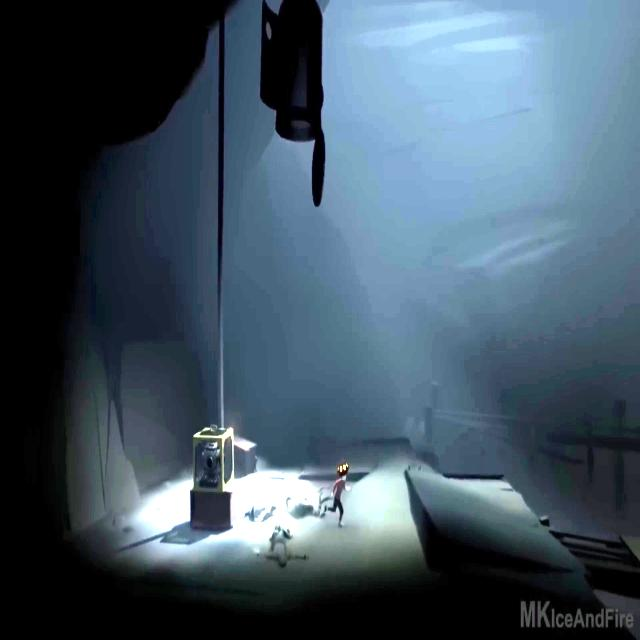boy: (324, 476, 350, 528)
